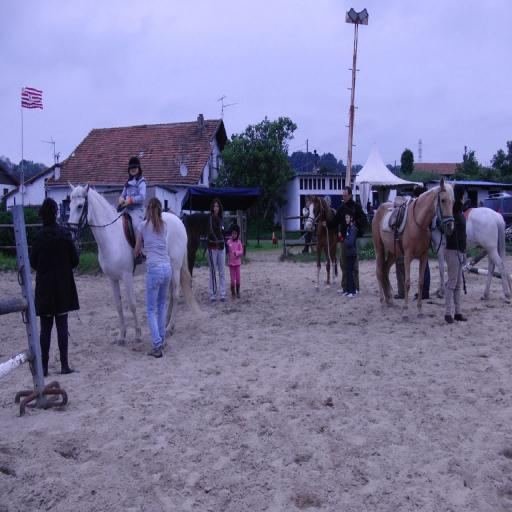horse: (66, 178, 208, 348), (370, 174, 456, 324), (433, 206, 512, 306), (180, 206, 226, 284), (304, 192, 340, 290)
